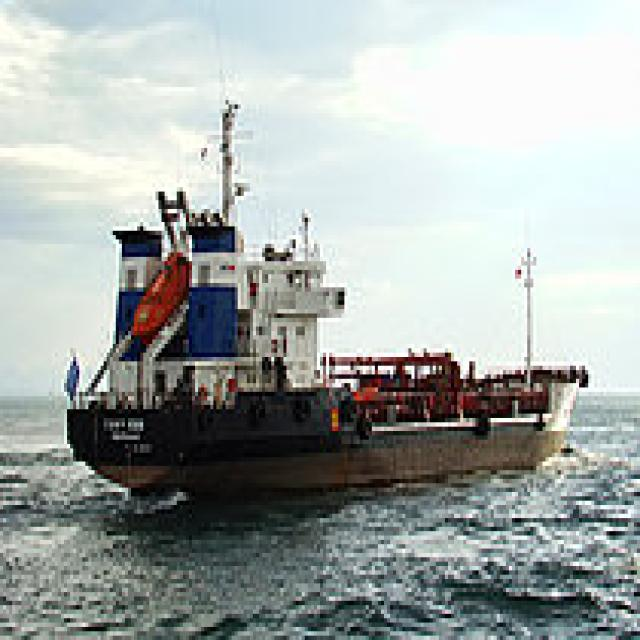Tanker: (61, 91, 588, 496)
